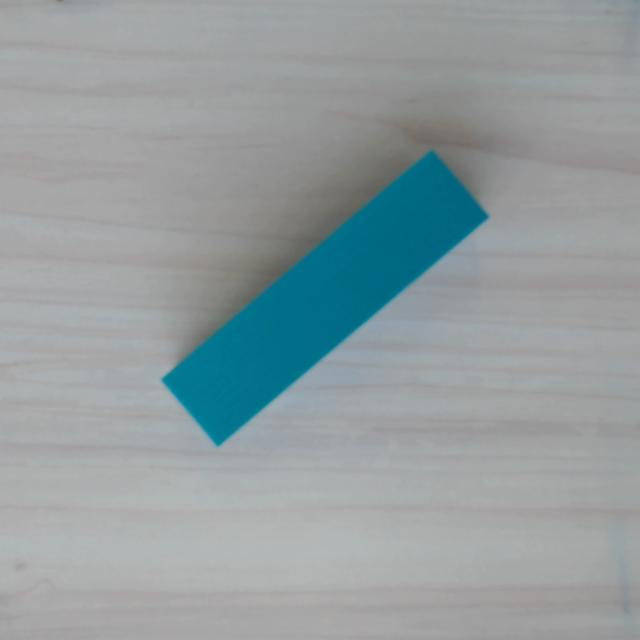Balok-Hijau-1002525: (159, 149, 490, 447)
